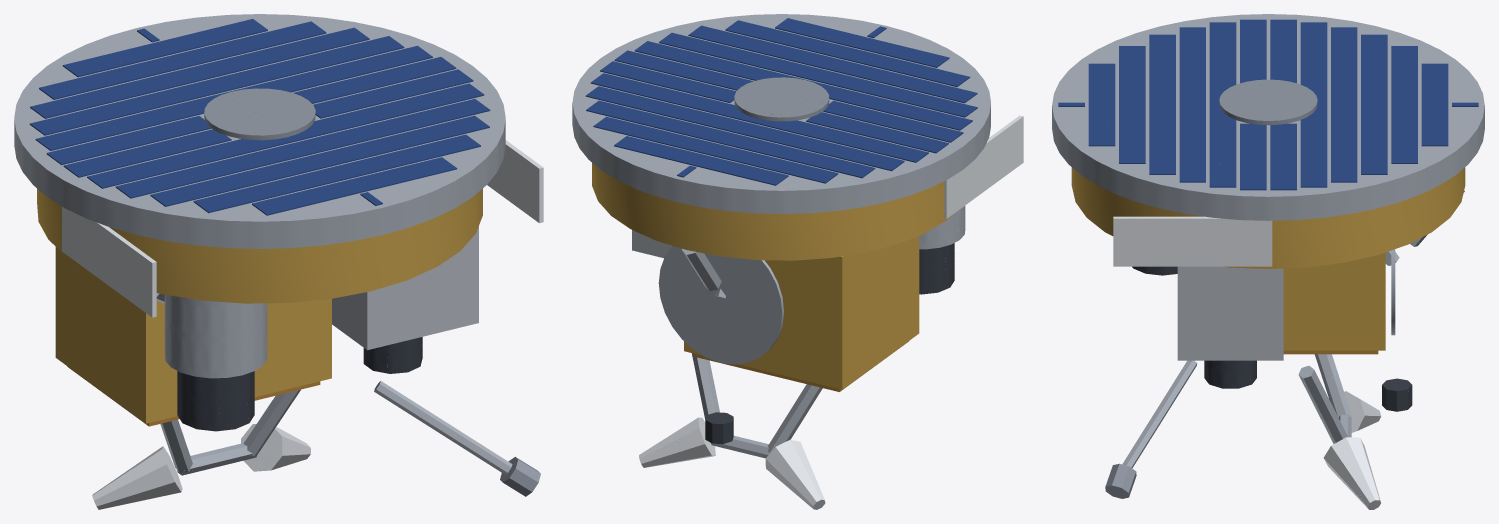
The model's file is scisat-1.glb.
3 renders of one model, left to right at view 1: azimuth 30°, elevation 25°; view 2: azimuth 150°, elevation 25°; view 3: azimuth 270°, elevation 25°, orthographic. The views are drawn at different scales.
Parts seen in each view (by area): view 1: body, solar-panel, foil; view 2: body, solar-panel, foil; view 3: body, solar-panel, foil.
Part boxes in pixels (x1=…): body: x1=14, y1=14, x2=543, y2=509; solar-panel: x1=29, y1=19, x2=490, y2=215; foil: x1=37, y1=188, x2=482, y2=426; body: x1=572, y1=14, x2=1023, y2=509; solar-panel: x1=585, y1=18, x2=977, y2=185; foil: x1=592, y1=163, x2=951, y2=391; body: x1=1052, y1=14, x2=1484, y2=509; solar-panel: x1=1058, y1=19, x2=1478, y2=190; foil: x1=1071, y1=167, x2=1465, y2=360.
Size of the model in its own units: 1.14 by 1.07 by 1.14.
